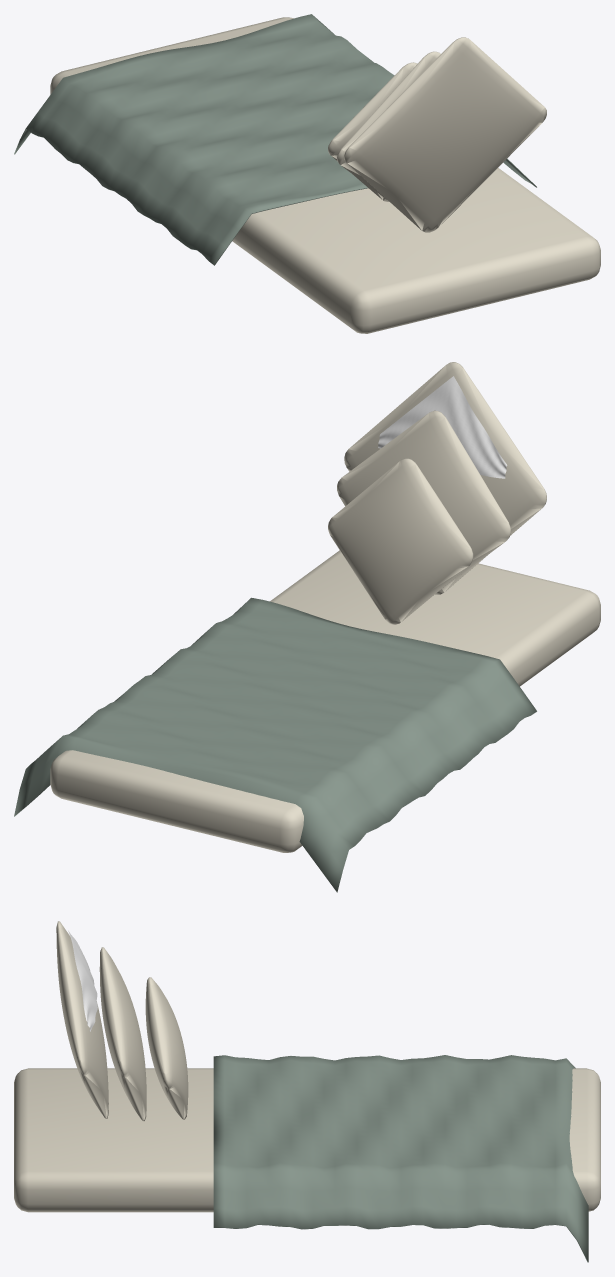
Rendered from BedTextiles.fbx.
3 renders of one model, top to bottom at view 1: azimuth 30°, elevation 25°; view 2: azimuth 150°, elevation 25°; view 3: azimuth 270°, elevation 25°, orthographic. The views are drawn at different scales.
Visible parts, largest first — view 1: Textile coverlet, Textile mattress, Textile upright pillow 1, Textile upright pillow 3, Textile upright pillow 2; view 2: Textile coverlet, Textile mattress, Textile upright pillow 3, Textile upright pillow 2, Textile upright pillow 1, Textile lace veil; view 3: Textile coverlet, Textile mattress, Textile upright pillow 1, Textile upright pillow 2, Textile upright pillow 3, Textile lace veil.
Part boxes in pixels (x1=…): Textile coverlet: x1=14, y1=14, x2=536, y2=265; Textile mattress: x1=50, y1=17, x2=600, y2=333; Textile upright pillow 1: x1=344, y1=37, x2=546, y2=232; Textile upright pillow 3: x1=328, y1=62, x2=417, y2=201; Textile upright pillow 2: x1=337, y1=51, x2=440, y2=199; Textile coverlet: x1=14, y1=597, x2=536, y2=892; Textile mattress: x1=50, y1=550, x2=600, y2=852; Textile upright pillow 3: x1=328, y1=458, x2=473, y2=624; Textile upright pillow 2: x1=337, y1=410, x2=510, y2=591; Textile upright pillow 1: x1=344, y1=362, x2=546, y2=594; Textile lace veil: x1=378, y1=376, x2=507, y2=478; Textile coverlet: x1=213, y1=1055, x2=588, y2=1262; Textile mattress: x1=14, y1=1068, x2=600, y2=1212; Textile upright pillow 1: x1=56, y1=921, x2=108, y2=1118; Textile upright pillow 2: x1=99, y1=947, x2=146, y2=1121; Textile upright pillow 3: x1=145, y1=977, x2=188, y2=1119; Textile lace veil: x1=68, y1=930, x2=97, y2=1031.
Bounding box in the file's own units: 112 × 94.65 × 188.
